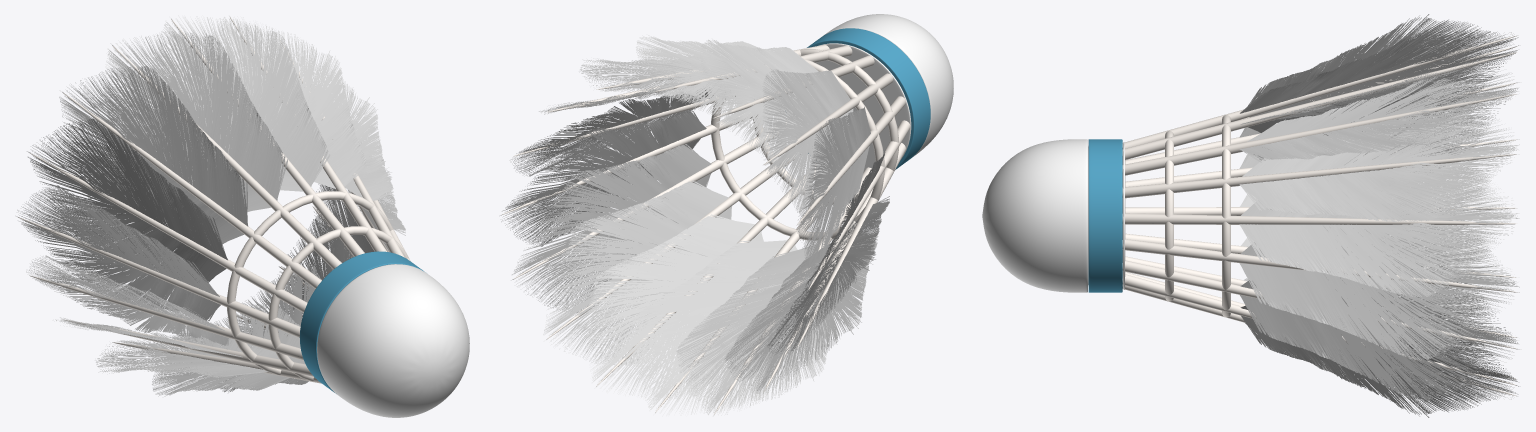
File: badminton.glb
3 views of the same model, side by side, from view 1: azimuth 30°, elevation 25°; view 2: azimuth 150°, elevation 25°; view 3: azimuth 270°, elevation 25° (orthographic).
Visible parts, largest first — view 1: Object_3, Object_4, Object_27, Object_26, Object_18, Object_19, Object_24, Object_23, Object_28, Object_17, Object_25, Object_5 (+14 smaller); view 2: Object_4, Object_14, Object_15, Object_16, Object_12, Object_13, Object_7, Object_20, Object_27, Object_8, Object_21, Object_3 (+15 smaller); view 3: Object_4, Object_10, Object_7, Object_3, Object_6, Object_9, Object_8, Object_11, Object_25, Object_27, Object_24, Object_28 (+13 smaller).
Part boxes in pixels (<box>): Object_3: <box>317,264,469,417</box>; Object_4: <box>18,17,410,383</box>; Object_27: <box>62,31,285,244</box>; Object_26: <box>59,66,247,242</box>; Object_18: <box>18,122,226,320</box>; Object_19: <box>27,118,227,282</box>; Object_24: <box>149,15,365,191</box>; Object_23: <box>139,16,329,342</box>; Object_28: <box>104,32,287,211</box>; Object_17: <box>18,185,320,392</box>; Object_25: <box>63,17,367,243</box>; Object_5: <box>63,191,408,381</box>; Object_4: <box>502,44,910,414</box>; Object_14: <box>547,181,834,414</box>; Object_15: <box>543,180,760,391</box>; Object_16: <box>586,217,763,400</box>; Object_12: <box>630,240,797,416</box>; Object_13: <box>631,246,841,415</box>; Object_7: <box>504,111,710,312</box>; Object_20: <box>724,108,877,393</box>; Object_27: <box>700,39,851,217</box>; Object_8: <box>511,90,711,311</box>; Object_21: <box>725,196,889,393</box>; Object_3: <box>815,14,953,171</box>; Object_4: <box>1122,36,1516,396</box>; Object_10: <box>1240,105,1519,296</box>; Object_7: <box>1240,202,1519,402</box>; Object_3: <box>982,139,1125,292</box>; Object_6: <box>1239,206,1519,359</box>; Object_9: <box>1240,104,1519,222</box>; Object_8: <box>1240,115,1518,401</box>; Object_11: <box>1239,150,1518,376</box>; Object_25: <box>1239,20,1518,162</box>; Object_27: <box>1240,17,1517,132</box>; Object_24: <box>1240,58,1517,162</box>; Object_28: <box>1240,29,1516,120</box>.
Bounding box in the file's own units: 10.85 × 10.85 × 14.51.
